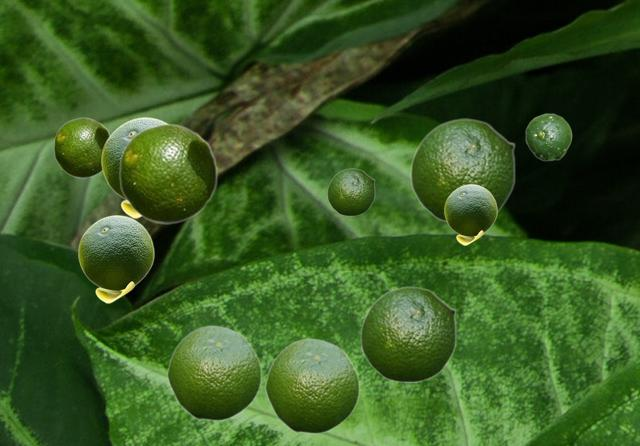calamansi: (410, 118, 515, 223), (118, 123, 217, 223), (360, 286, 456, 382), (166, 324, 261, 420), (264, 337, 359, 433), (78, 215, 153, 302), (101, 117, 166, 217), (53, 117, 109, 177), (444, 184, 496, 244), (327, 168, 374, 215), (525, 113, 571, 160)
